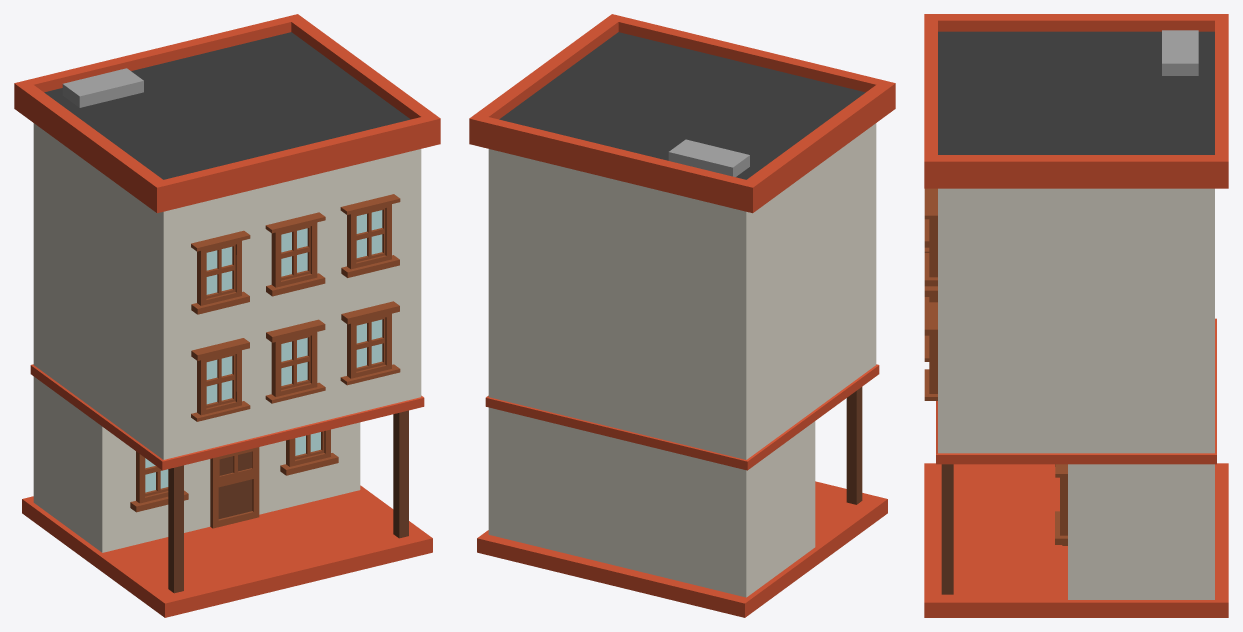
File: q_Flat2.glb
The picture shows the model from 3 angles, left to right: view 1: azimuth 30°, elevation 25°; view 2: azimuth 150°, elevation 25°; view 3: azimuth 270°, elevation 25°; orthographic projection. The views are drawn at different scales.
Visible parts, largest first — view 1: Flat2; view 2: Flat2; view 3: Flat2.
Boxes of the visible parts, x1,y1,x2,y2 form: Flat2: [14, 14, 440, 617]; Flat2: [469, 14, 895, 617]; Flat2: [924, 14, 1228, 617].
Bounding box in the file's own units: 2.17 × 3.17 × 1.89.
1 material, 1 textured.
